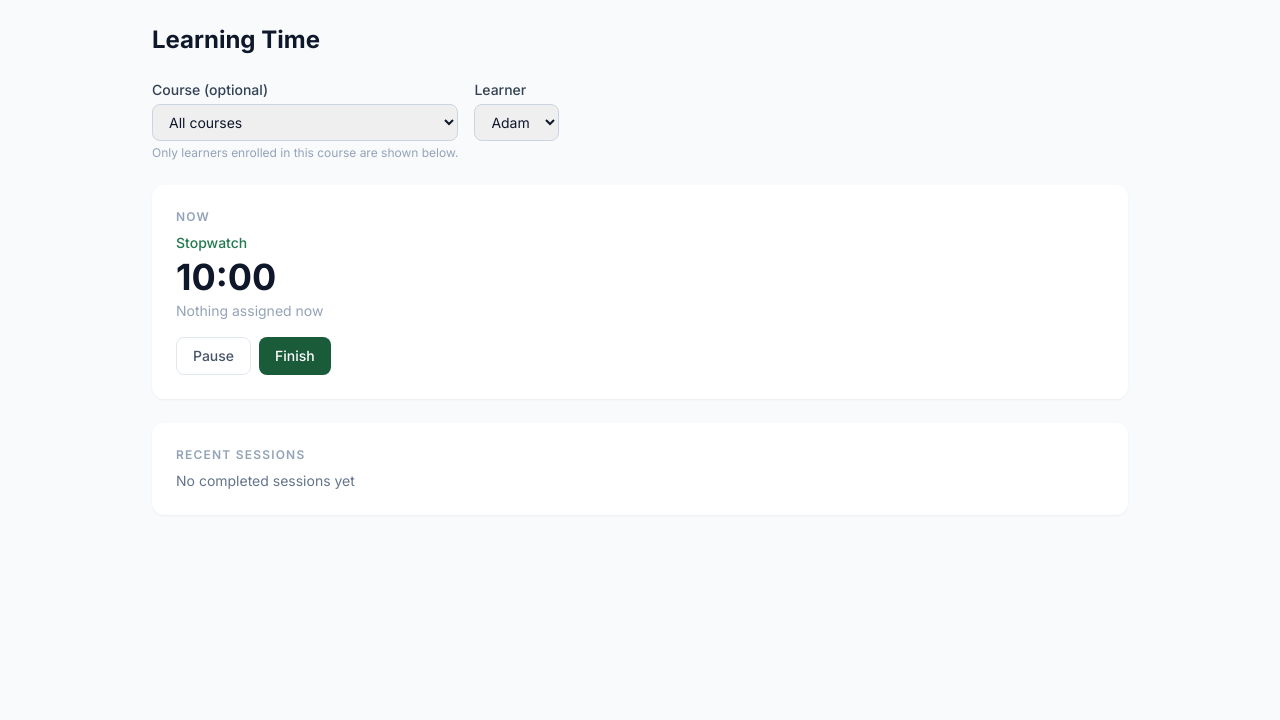
Test: LearningTimePage › "Finish" transitions a running session to the Ended state
Check: the element with test id "now-card-running" is shown, box [176, 209, 331, 375]
Click the button with test id "finish-button" at x=295, y=356, box [259, 337, 331, 375]
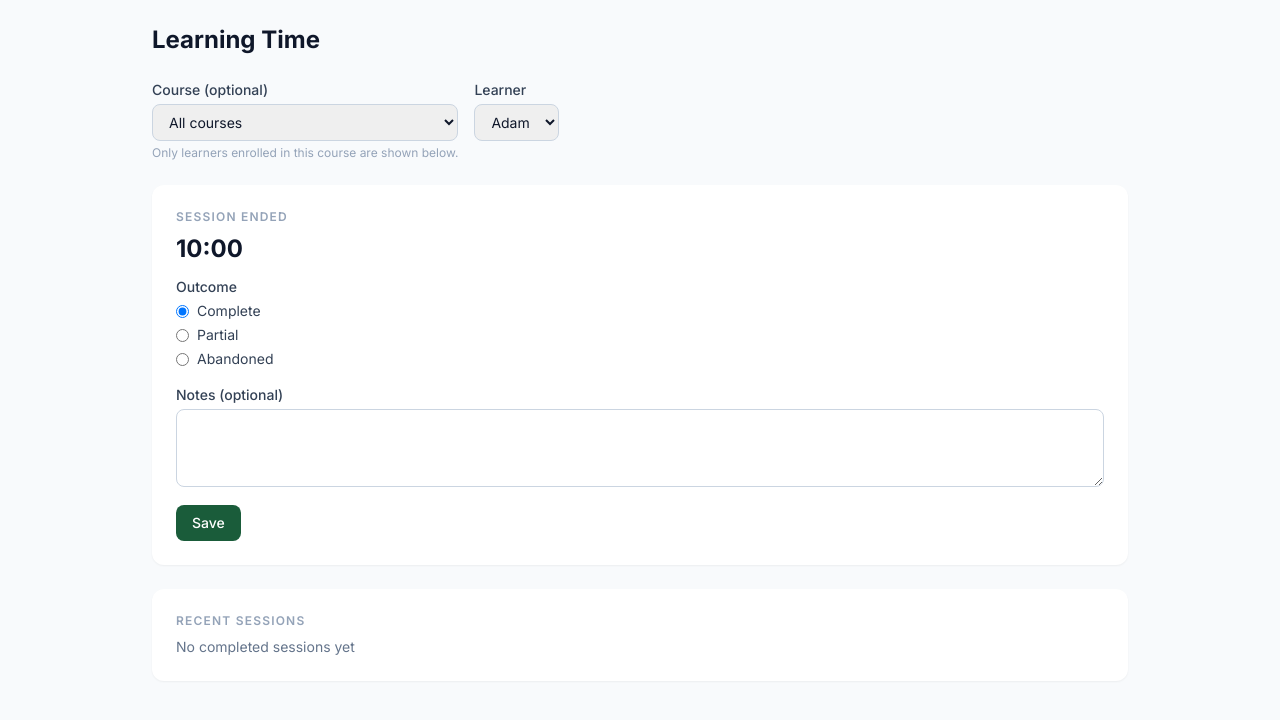
Check: the element with test id "now-card-ended" is shown, box [176, 209, 1104, 541]
Check: the radio button with test id "outcome-complete" is shown, box [176, 304, 189, 318]
Check: the radio button with test id "outcome-partial" is shown, box [176, 328, 189, 342]
